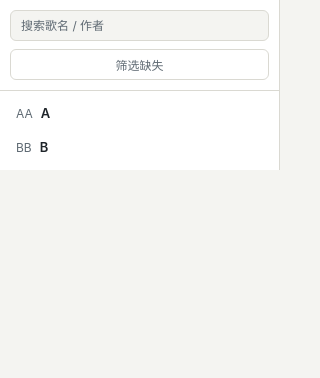
SongList — 缺失筛选面板 › 逐项取消五个维度后恢复完整列表并停止筛选
This screenshot has width=320, height=378.
Click the button with class "missing-filter-btn" at (140, 64), box [10, 49, 269, 80]
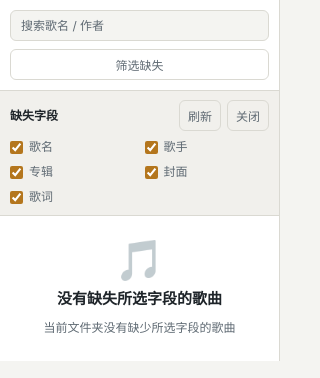
Click the checkbox labelled "歌名" at (16, 147), box [10, 140, 23, 154]
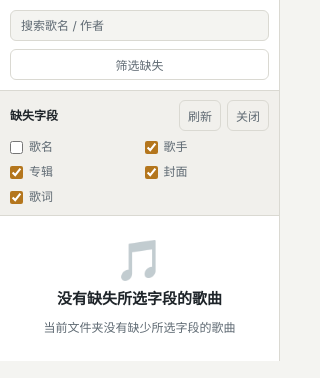
Click the checkbox labelled "歌手" at (151, 147), box [144, 140, 158, 154]
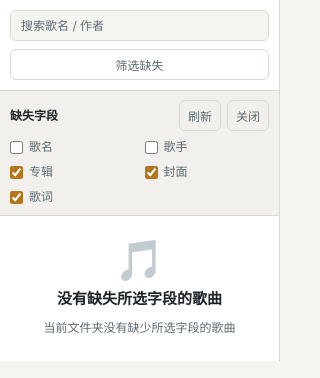
Click the checkbox labelled "专辑" at (16, 172), box [10, 166, 23, 178]
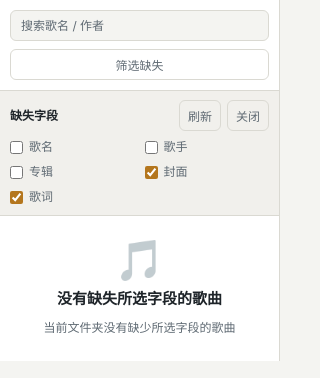
Click the checkbox labelled "封面" at (151, 172), box [144, 166, 158, 178]
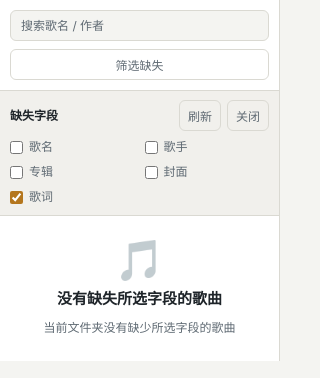
Click the checkbox labelled "歌词" at (16, 197), box [10, 190, 23, 204]
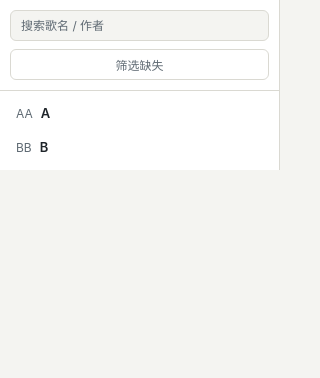
Now the number of list items with class "song-row" is 2, box [16, 105, 50, 121]; [16, 138, 48, 154]
